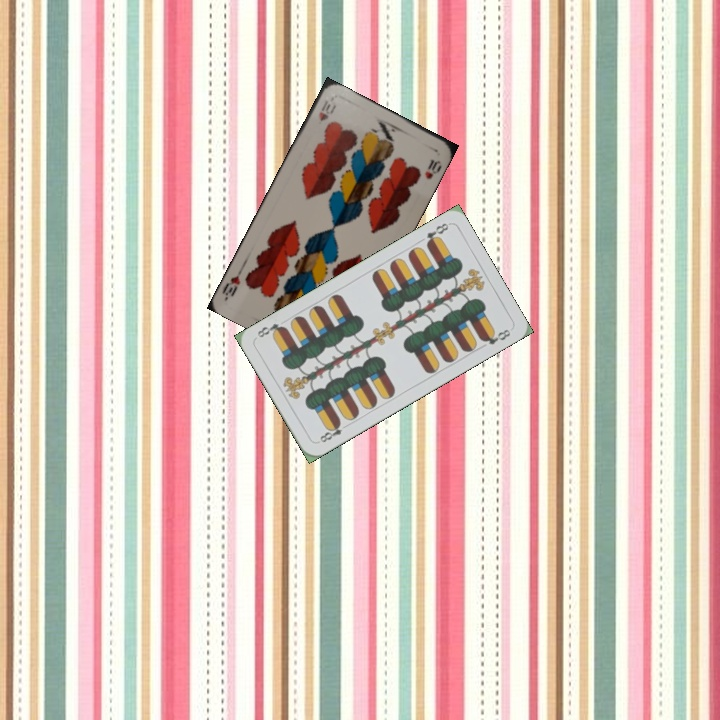E8: (314, 418, 351, 445), (422, 219, 451, 249)
H10: (314, 96, 338, 124)
